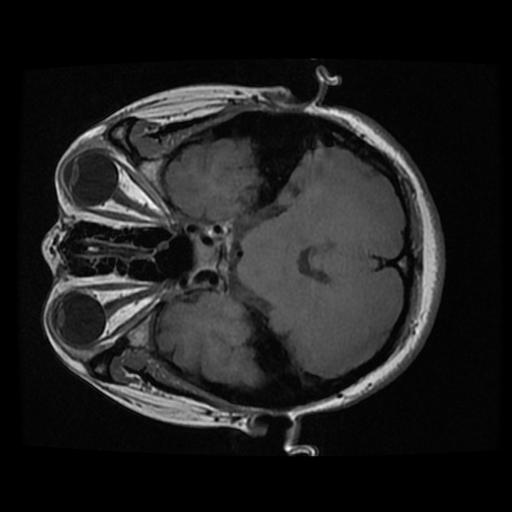pituitary tumour: (197, 244, 219, 269)
